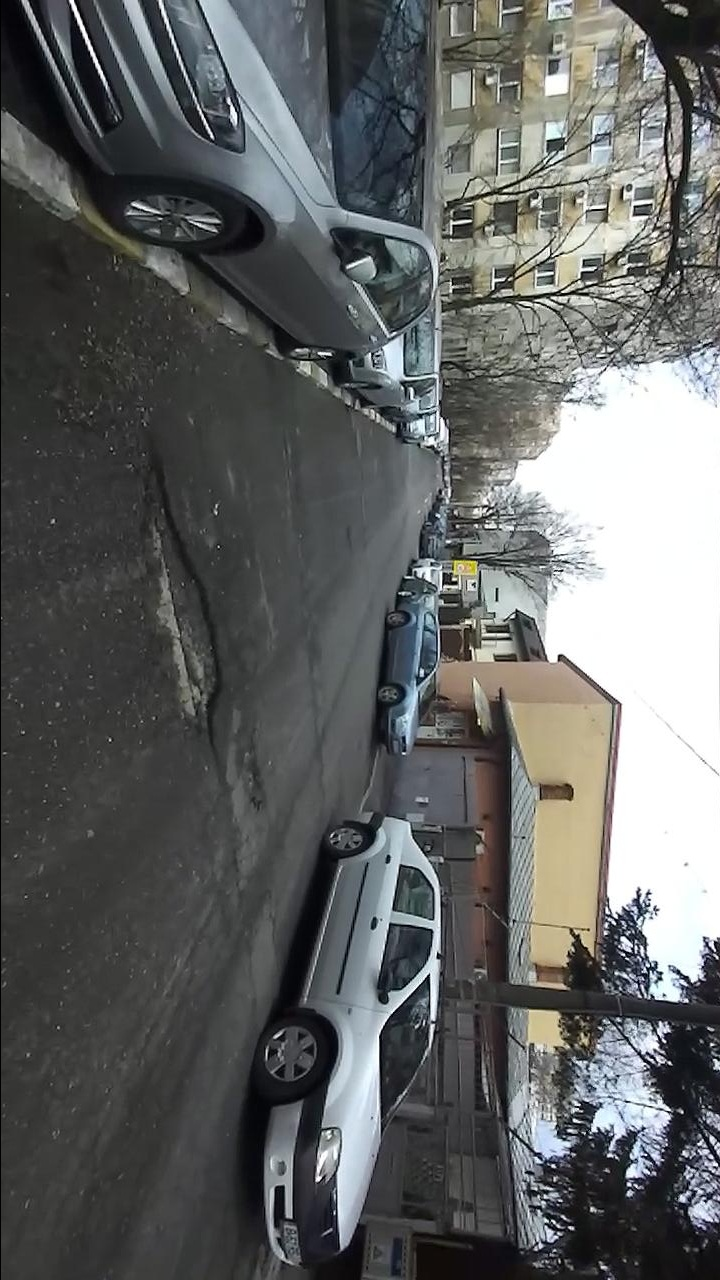pothole: (135, 451, 227, 781), (239, 739, 271, 819)
